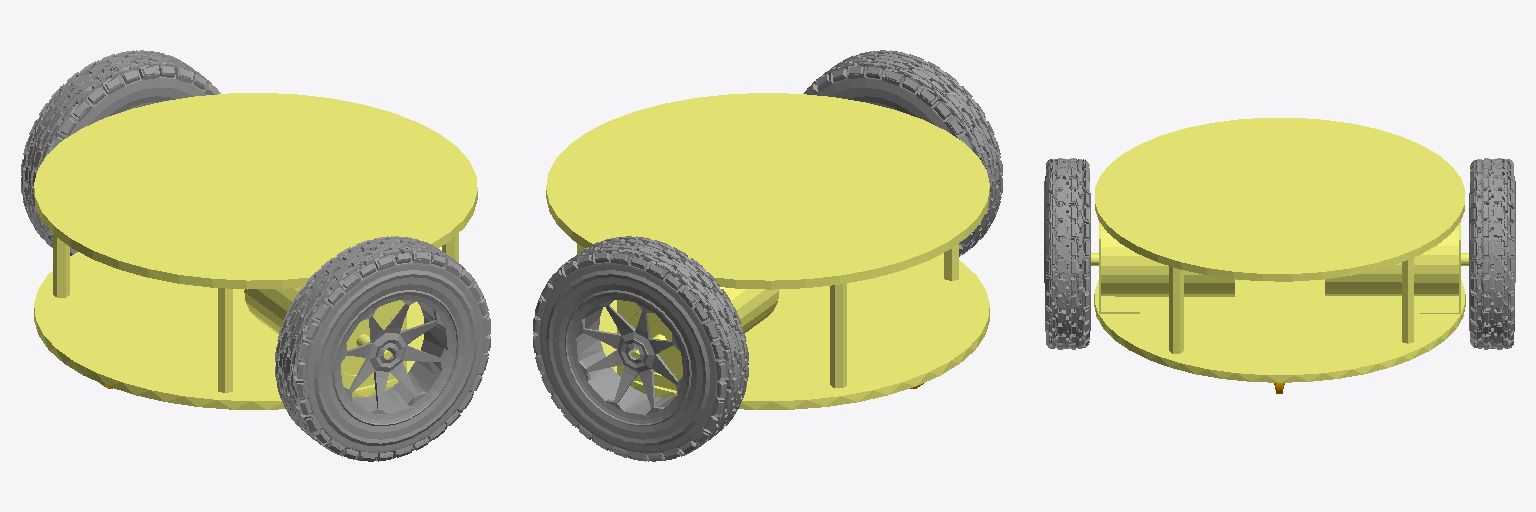
robot.urdf — pocker_bot:
<?xml version="1.0" ?>
<!-- =================================================================================== -->
<!-- |    This document was autogenerated by xacro from pocker_bot.xacro               | -->
<!-- |    EDITING THIS FILE BY HAND IS NOT RECOMMENDED                                 | -->
<!-- =================================================================================== -->
<!-- Chasis defined here -->
<robot name="pocker_bot" xmlns:xacro="http://www.ros.org/wiki/xacro">
  <material name="black">
    <color rgba="0.0 0.0 0.0 1.0"/>
  </material>
  <material name="blue">
    <color rgba="0.0 0.0 0.8 1.0"/>
  </material>
  <material name="light_yellow">
    <color rgba="1.0 1.0 0.5 1.0"/>
  </material>
  <material name="grey">
    <color rgba="0.2 0.2 0.2 1.0"/>
  </material>
  <material name="orange">
    <color rgba="1.0 0.423529411765 0.0392156862745 1.0"/>
  </material>
  <material name="brown">
    <color rgba="0.870588235294 0.811764705882 0.764705882353 1.0"/>
  </material>
  <material name="red">
    <color rgba="0.8 0.0 0.0 1.0"/>
  </material>
  <material name="white">
    <color rgba="1.0 1.0 1.0 1.0"/>
  </material>
  <!-- macro for joints -->
  <!-- <macro nam="joint_wheel"> -->
  <link name="base_link">
    <inertial>
      <mass value="5"/>
      <inertia ixx="0.0395416666667" ixy="0" ixz="0" iyy="0.106208333333" iyz="0" izz="0.106208333333"/>
    </inertial>
    <collision name="collision_chassis">
      <origin rpy="0 0 0" xyz="0 0 0.043512"/>
      <geometry>
        <cylinder length="0.054024" radius="0.08987"/>
      </geometry>
    </collision>
    <visual>
      <origin rpy="1.57 0 1.57" xyz="0 0 0.0165"/>
      <geometry>
        <!-- <cylinder length="0.054024" radius="0.08987"/> -->
        <mesh filename="package://pocker_bot_description/urdf/meshes/bot_base.stl" scale="0.01 0.01 0.01"/>
      </geometry>
      <material name="light_yellow"/>
      <!-- <xacro:material name="Orange"/> -->
    </visual>
    <!-- caster front -->
    <collision name="caster_front_collision">
      <origin rpy=" 0 0 0" xyz="0.0674025 0 0.0165"/>
      <geometry>
        <sphere radius="0.0165"/>
      </geometry>
      <surface>
        <friction>
          <ode>
            <mu>0</mu>
            <mu2>0</mu2>
            <slip1>1.0</slip1>
            <slip2>1.0</slip2>
          </ode>
        </friction>
      </surface>
    </collision>
    <visual name="caster_front_visual">
      <origin rpy=" 0 0 1.57" xyz="0.0674025 0.0057 0.0005"/>
      <geometry>
        <!-- <sphere radius="0.05"/> -->
        <mesh filename="package://pocker_bot_description/urdf/meshes/castor_wheel.stl" scale="0.00015 0.00015 0.00015"/>
      </geometry>
    </visual>
    <!-- Caster front -->
    <collision name="caster_front_collision">
      <origin rpy=" 0 0 0" xyz="-0.0674025 0 0.0165"/>
      <geometry>
        <sphere radius="0.0165"/>
      </geometry>
      <surface>
        <friction>
          <ode>
            <mu>0</mu>
            <mu2>0</mu2>
            <slip1>1.0</slip1>
            <slip2>1.0</slip2>
          </ode>
        </friction>
      </surface>
    </collision>
    <visual name="caster_front_visual">
      <origin rpy=" 0 0 -1.57" xyz="-0.0674025 -0.0057 0.0005"/>
      <geometry>
        <!-- <sphere radius="0.05"/> -->
        <mesh filename="package://pocker_bot_description/urdf/meshes/castor_wheel.stl" scale="0.00015 0.00015 0.00015"/>
      </geometry>
    </visual>
  </link>
  <link name="left_wheel_link">
    <inertial>
      <mass value="0.2"/>
      <origin rpy="0 1.5707 1.5707" xyz="0 0 0"/>
      <inertia ixx="0.000526666666667" ixy="0" ixz="0" iyy="0.000526666666667" iyz="0" izz="0.001"/>
    </inertial>
    <collision name="left_wheel_link_collision">
      <origin rpy="0 1.5707 1.5707" xyz="0 0 0"/>
      <geometry>
        <cylinder length="0.012" radius="0.043512"/>
      </geometry>
    </collision>
    <visual name="left_wheel_link_visual">
      <origin rpy="0 0 1.57" xyz="0 0 0"/>
      <geometry>
        <!-- <cylinder length="${thickness}" radius="${radius}"/> -->
        <mesh filename="package://pocker_bot_description/urdf/meshes/wheel.dae" scale="0.6 1 1"/>
      </geometry>
    </visual>
  </link>
  <joint name="joint_left_wheel_link" type="continuous">
    <origin rpy="0 0 0" xyz="0 0.10287 0.043512"/>
    <child link="left_wheel_link"/>
    <parent link="base_link"/>
    <axis rpy="0 0 0" xyz="0 1 0"/>
    <limit effort="10000" velocity="1000"/>
    <joint_properties damping="1.0" friction="1.0"/>
  </joint>
  <link name="right_wheel_link">
    <inertial>
      <mass value="0.2"/>
      <origin rpy="0 1.5707 1.5707" xyz="0 0 0"/>
      <inertia ixx="0.000526666666667" ixy="0" ixz="0" iyy="0.000526666666667" iyz="0" izz="0.001"/>
    </inertial>
    <collision name="right_wheel_link_collision">
      <origin rpy="0 1.5707 1.5707" xyz="0 0 0"/>
      <geometry>
        <cylinder length="0.012" radius="0.043512"/>
      </geometry>
    </collision>
    <visual name="right_wheel_link_visual">
      <origin rpy="0 0 -1.57" xyz="0 0 0"/>
      <geometry>
        <!-- <cylinder length="${thickness}" radius="${radius}"/> -->
        <mesh filename="package://pocker_bot_description/urdf/meshes/wheel.dae" scale="0.6 1 1"/>
      </geometry>
    </visual>
  </link>
  <joint name="joint_right_wheel_link" type="continuous">
    <origin rpy="0 0 0" xyz="0 -0.10287 0.043512"/>
    <child link="right_wheel_link"/>
    <parent link="base_link"/>
    <axis rpy="0 0 0" xyz="0 1 0"/>
    <limit effort="10000" velocity="1000"/>
    <joint_properties damping="1.0" friction="1.0"/>
  </joint>
</robot>

--- Render facts (derived) ---
The picture shows the robot from 3 angles, left to right: view 1: azimuth 30°, elevation 25°; view 2: azimuth 150°, elevation 25°; view 3: azimuth 270°, elevation 25°; orthographic projection.
Model pocker_bot with 3 links and 2 joints (2 continuous), rooted at base_link, posed all joints at 0.
Links seen in each view (by area): view 1: base_link, right_wheel_link, left_wheel_link; view 2: base_link, left_wheel_link, right_wheel_link; view 3: base_link, left_wheel_link, right_wheel_link.
Link boxes in pixels (x1=…): base_link: x1=34, y1=93, x2=477, y2=409; right_wheel_link: x1=275, y1=236, x2=490, y2=461; left_wheel_link: x1=21, y1=50, x2=220, y2=255; base_link: x1=546, y1=93, x2=989, y2=409; left_wheel_link: x1=533, y1=236, x2=748, y2=461; right_wheel_link: x1=803, y1=50, x2=1002, y2=256; base_link: x1=1091, y1=118, x2=1468, y2=393; left_wheel_link: x1=1469, y1=158, x2=1515, y2=349; right_wheel_link: x1=1044, y1=158, x2=1090, y2=349.
Size in the robot's own frame: 0.18 by 0.228 by 0.0925 metres.
5 mesh visuals loaded from 3 distinct referenced files (2 binary STL, 1 Collada DAE).